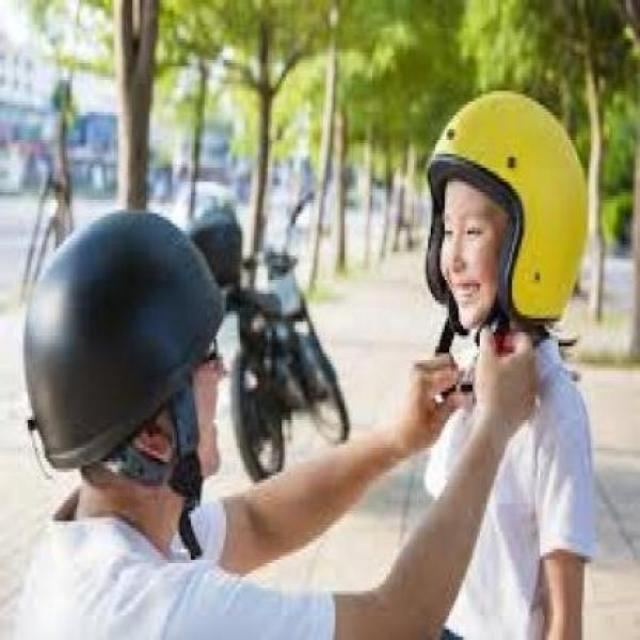Helmet: (17, 204, 236, 494), (423, 93, 589, 360)
